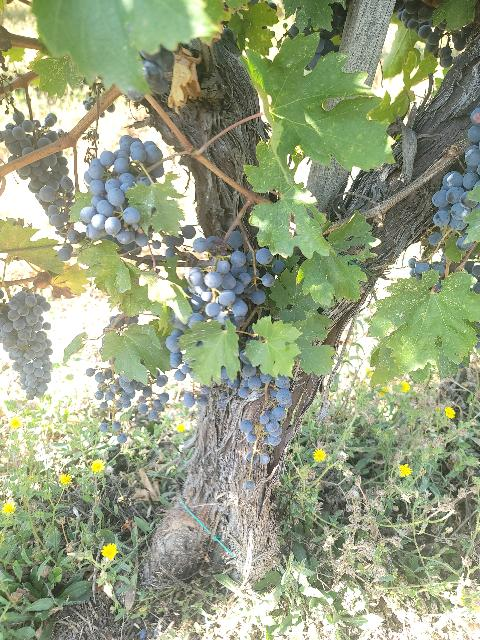grapes: (180, 231, 286, 329), (0, 110, 75, 238), (80, 135, 164, 248), (431, 108, 480, 234), (0, 291, 52, 400)
